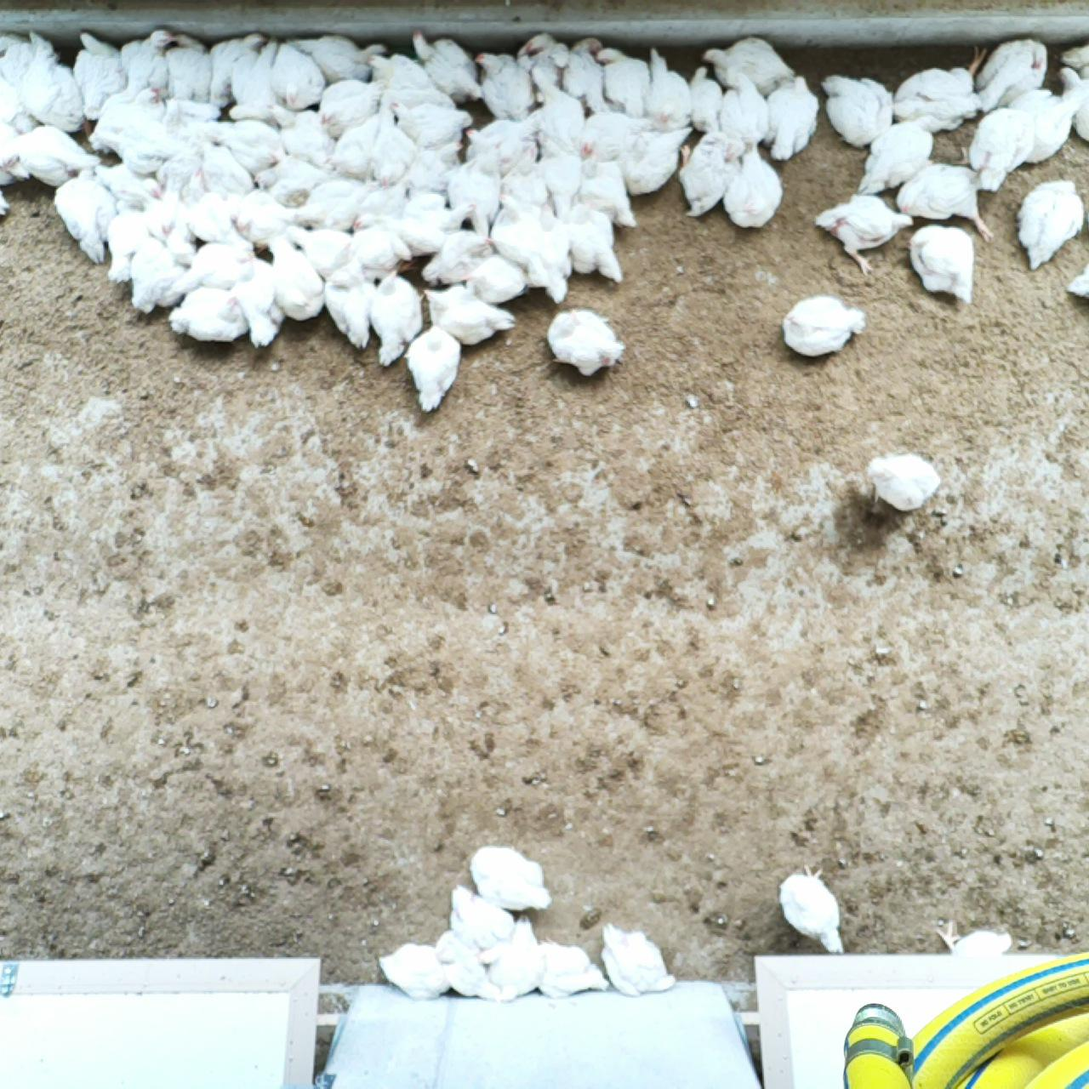chicken: (815, 189, 914, 274), (887, 160, 994, 238), (546, 190, 631, 286), (0, 121, 103, 190), (903, 219, 983, 307), (156, 238, 257, 307), (815, 68, 901, 149), (859, 109, 936, 199), (463, 842, 556, 915), (53, 166, 122, 264), (1014, 177, 1088, 268), (418, 284, 522, 348), (593, 917, 675, 997), (22, 32, 87, 132), (966, 40, 1047, 119), (755, 67, 820, 165), (572, 137, 637, 235), (537, 308, 629, 377), (780, 292, 869, 363), (404, 27, 484, 104), (262, 234, 331, 323), (893, 62, 977, 134), (718, 144, 784, 234), (781, 870, 847, 959), (675, 127, 740, 217), (1011, 84, 1081, 167), (699, 34, 798, 92), (287, 31, 387, 88), (99, 114, 189, 177), (70, 25, 129, 121), (369, 267, 421, 373), (219, 35, 281, 123), (232, 253, 288, 350), (624, 118, 691, 198), (967, 108, 1032, 190), (447, 884, 518, 959), (86, 83, 165, 150), (529, 936, 609, 1002), (714, 65, 771, 157), (405, 323, 459, 420), (166, 284, 253, 344), (375, 933, 453, 999), (265, 100, 337, 170), (473, 48, 540, 123), (130, 234, 190, 317), (557, 33, 615, 118), (449, 147, 505, 235), (347, 206, 442, 257), (329, 225, 407, 287), (523, 217, 576, 308), (523, 82, 583, 162), (867, 449, 942, 512), (496, 146, 556, 223), (199, 118, 286, 171), (488, 203, 547, 281), (421, 227, 490, 293), (231, 188, 302, 252), (436, 929, 497, 1003), (486, 915, 541, 997), (460, 113, 536, 171), (252, 154, 332, 209), (322, 266, 373, 352), (207, 34, 262, 111), (329, 109, 391, 176), (157, 31, 212, 106), (286, 222, 357, 280), (642, 48, 694, 127), (316, 74, 382, 136), (580, 110, 653, 166), (593, 44, 648, 118), (120, 26, 174, 101), (362, 119, 418, 191), (296, 177, 371, 230), (268, 44, 328, 110), (106, 198, 152, 284), (0, 29, 38, 133), (389, 94, 465, 145), (184, 193, 252, 250), (517, 28, 566, 106), (399, 137, 461, 197), (458, 257, 533, 306), (536, 143, 582, 219), (398, 190, 481, 231), (194, 140, 256, 194), (935, 920, 1015, 961), (352, 180, 412, 233), (139, 186, 192, 246), (90, 160, 166, 200), (682, 63, 724, 135), (364, 48, 435, 89), (153, 139, 200, 198), (158, 96, 220, 138), (1060, 62, 1089, 145), (1061, 265, 1089, 303), (1063, 42, 1089, 82)
